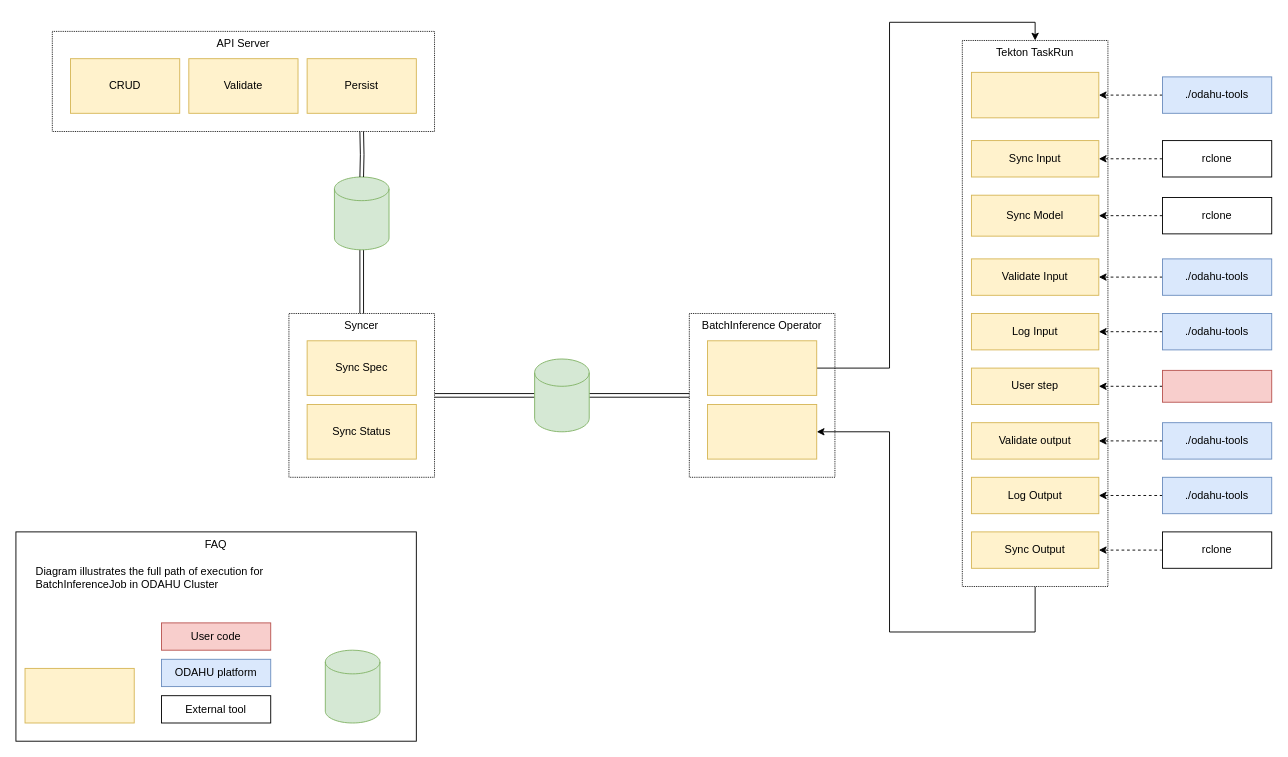
This 1288x757 diagram has some shape labels left out. Each missing label, with the centre of its shape:
"Collect step results" belongs at point 762,431.
"configure rclone using odahu connections" belongs at point 1035,94.
"Create Tekton TaskRun" belongs at point 762,367.
"Kube" belongs at point 561,395.
"Postgres" belongs at point 361,213.
"Process (Algorithm)" belongs at point 79,695.
"State" belongs at point 352,686.
"User container" belongs at point 1217,385.
